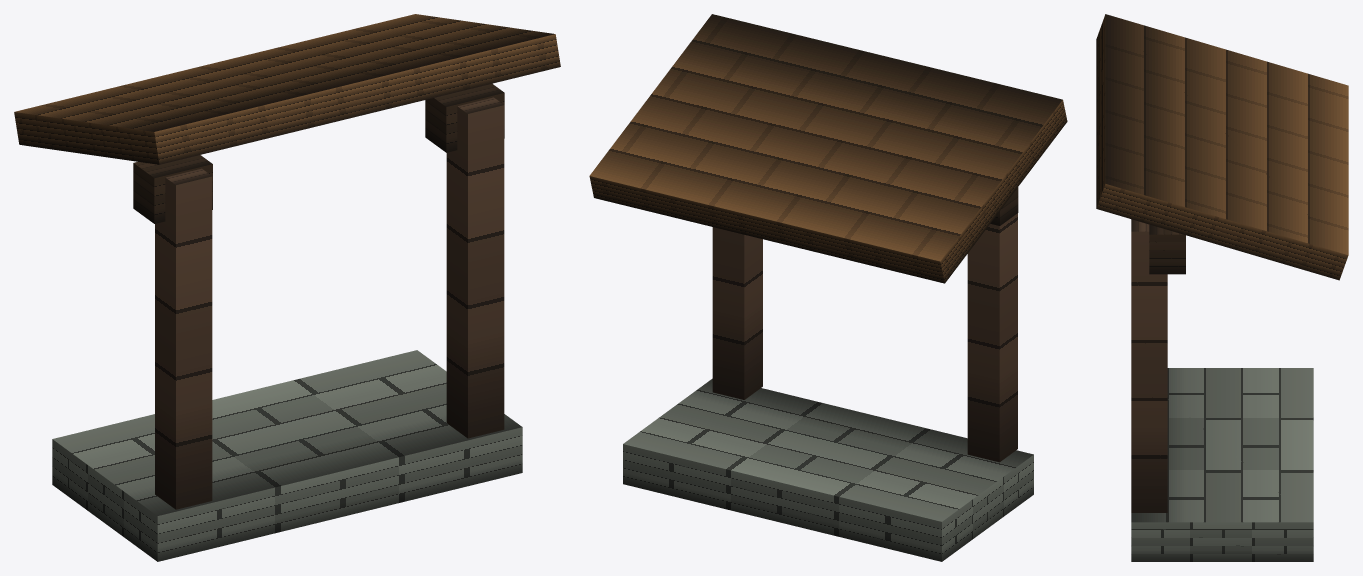
Rendered from porch.gltf.
3 views of the same model, side by side, from view 1: azimuth 30°, elevation 25°; view 2: azimuth 150°, elevation 25°; view 3: azimuth 270°, elevation 25° (orthographic). The views are drawn at different scales.
Visible parts, largest first — view 1: porch; view 2: porch; view 3: porch.
Part boxes in pixels (left/top/right/bottom): porch: left=14, top=14, right=560, bottom=561; porch: left=589, top=14, right=1067, bottom=561; porch: left=1096, top=14, right=1348, bottom=561.
Size of the model in its own units: 1.1 by 1.17 by 0.6905.
Materials: 1 (1 with a texture image).
